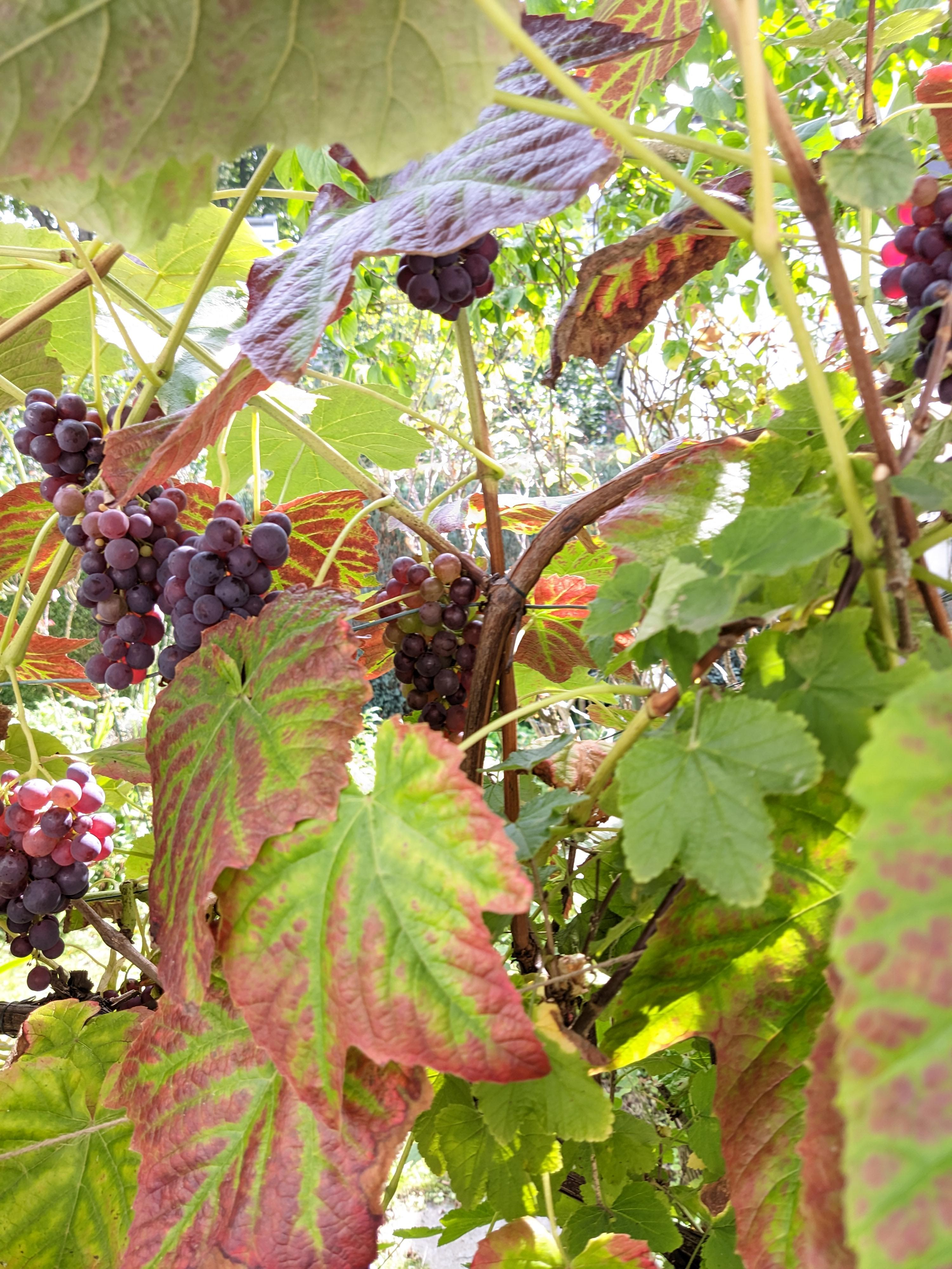Grape Ripe: (15, 389, 186, 690), (0, 764, 117, 991), (159, 500, 292, 682), (374, 555, 505, 727), (885, 163, 952, 424), (394, 229, 499, 318)
